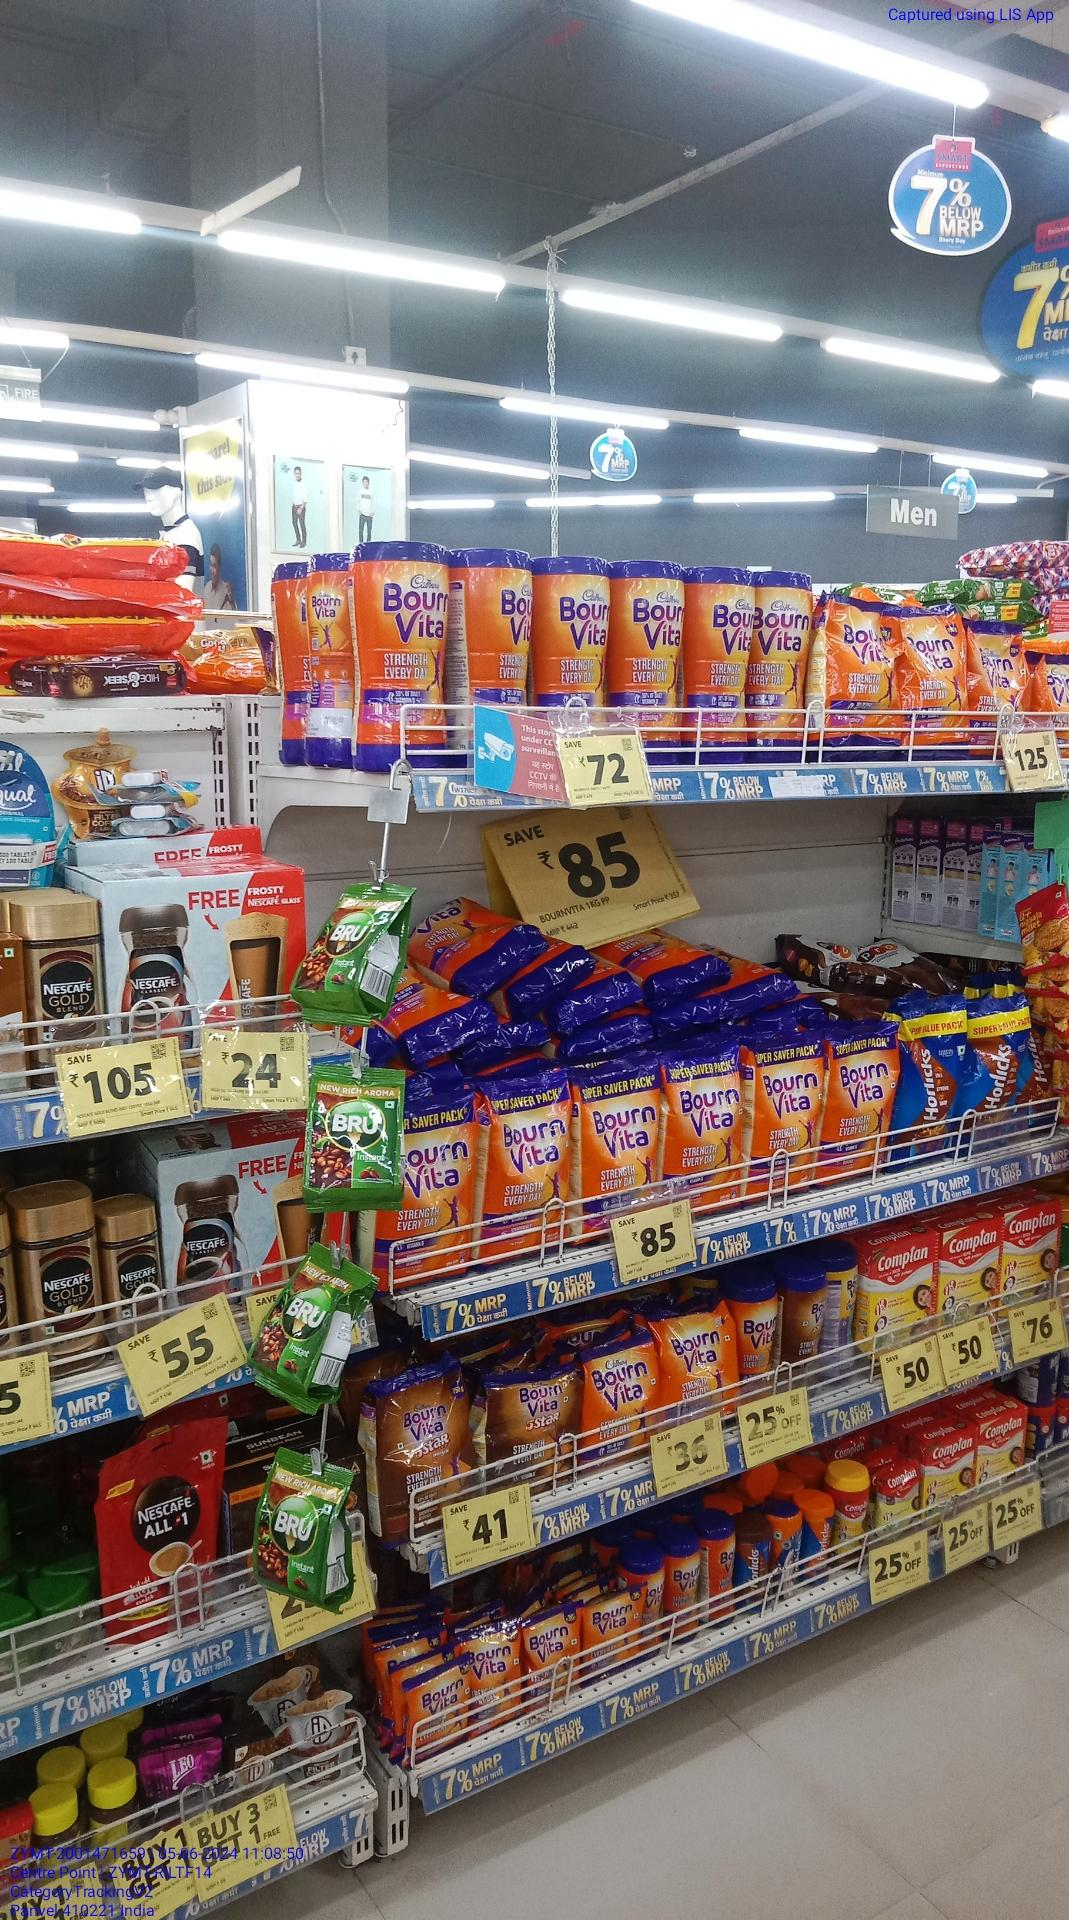BOURN_VITA_75_G_POUCH: (404, 1658, 467, 1769), (524, 1598, 581, 1709), (470, 1609, 520, 1733), (583, 1583, 642, 1686)
BOURN_VITA_FIVE_STAR_MAGIC_500_G_JAR: (781, 1263, 827, 1400)
BOURN_VITA_FIVE_STAR_MAGIC_500_G_POUCH: (484, 1363, 577, 1495)
BOURN_VITA_FIVE_STAR_MAGIC_750_G_POUCH: (373, 1362, 471, 1540)
COMPLAN_CHOCOLATE_200_GMS_JAR: (832, 1463, 868, 1569)
